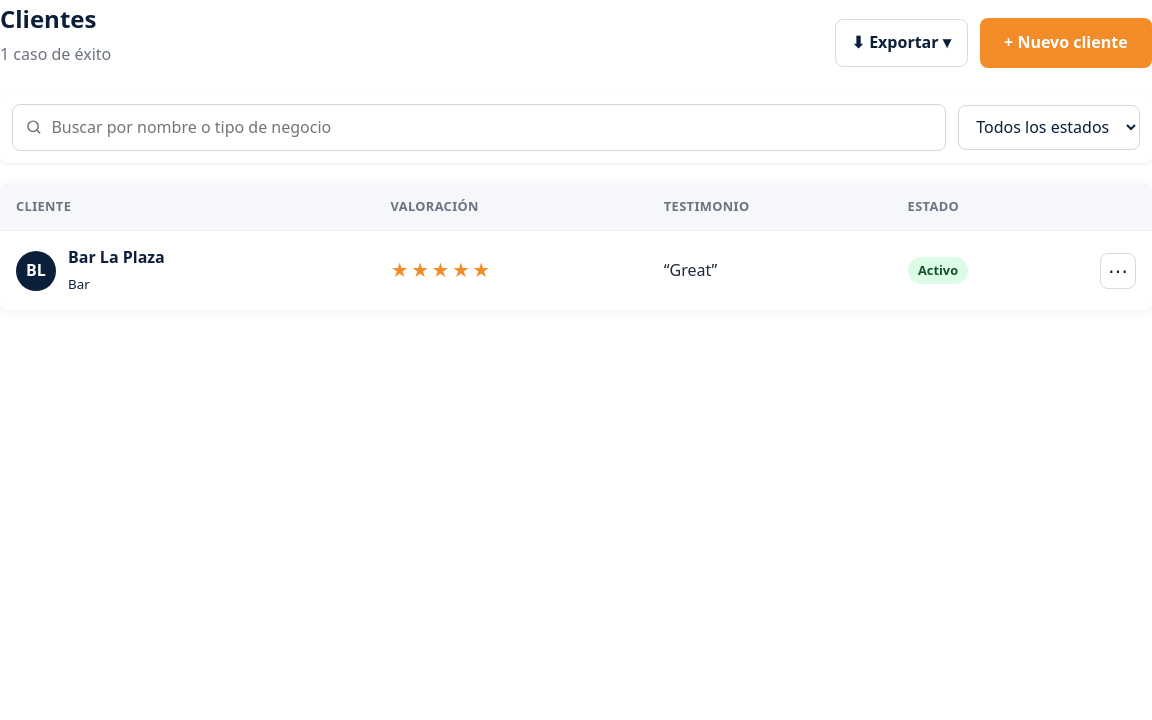
Scenario: admin CRUD screens › Clientes: lists the clients and edits one
The width and height of the screenshot is (1152, 720).
Click the button with test id "row-actions" showing "⋯".
click(1118, 271)  # box left=1100, top=253, right=1136, bottom=289
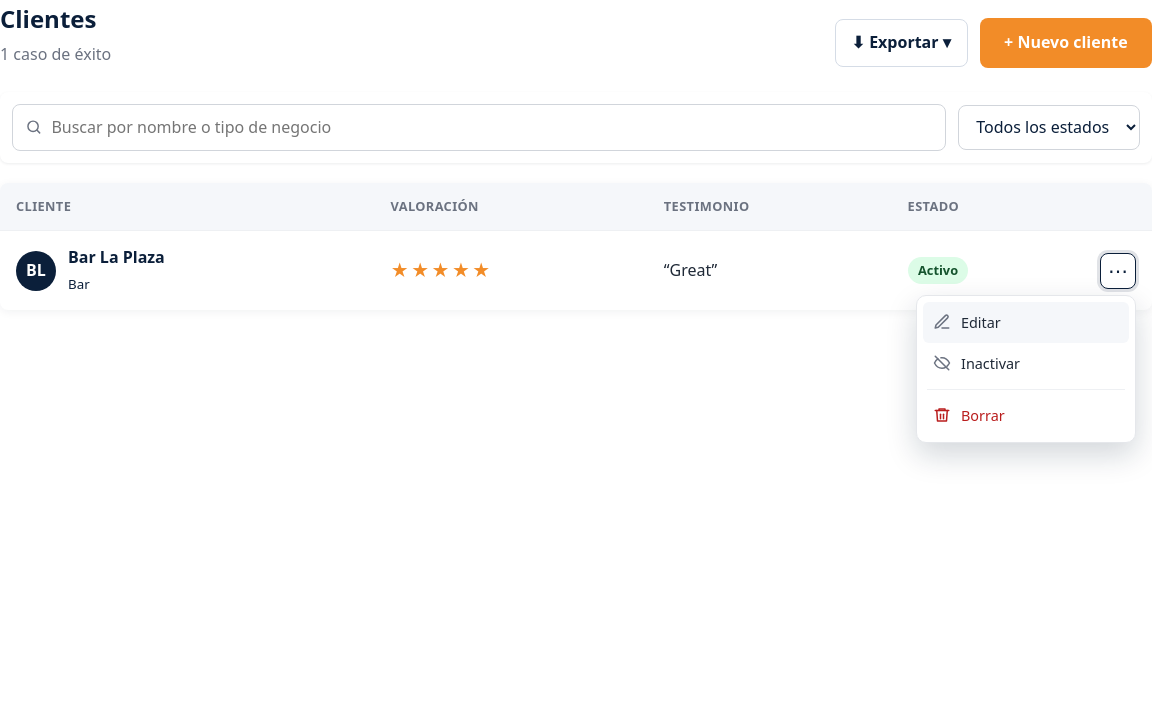
Click the menu item "Editar".
click(1026, 322)  # box left=923, top=302, right=1129, bottom=343
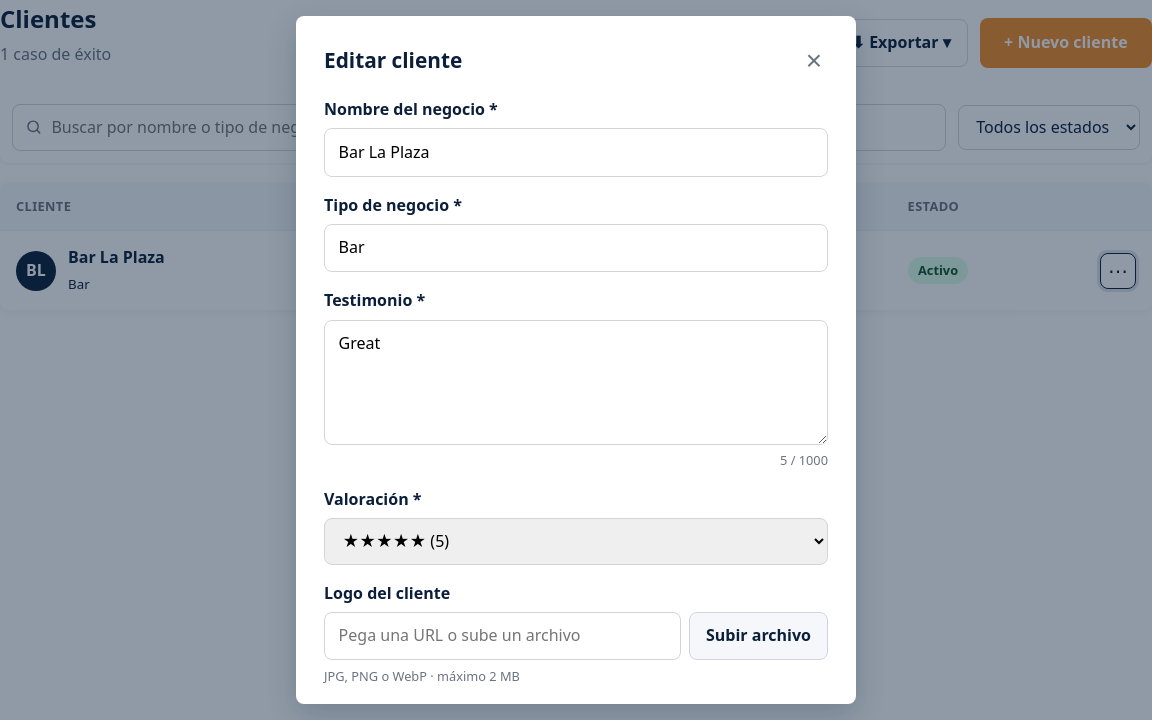
Now the field with id "client-name" holds "Bar La Plaza"
Replace the text in the field with id "client-name" with "Bar La Plaza Mayor" at (576, 153), box left=324, top=128, right=828, bottom=177
(page scrolled)
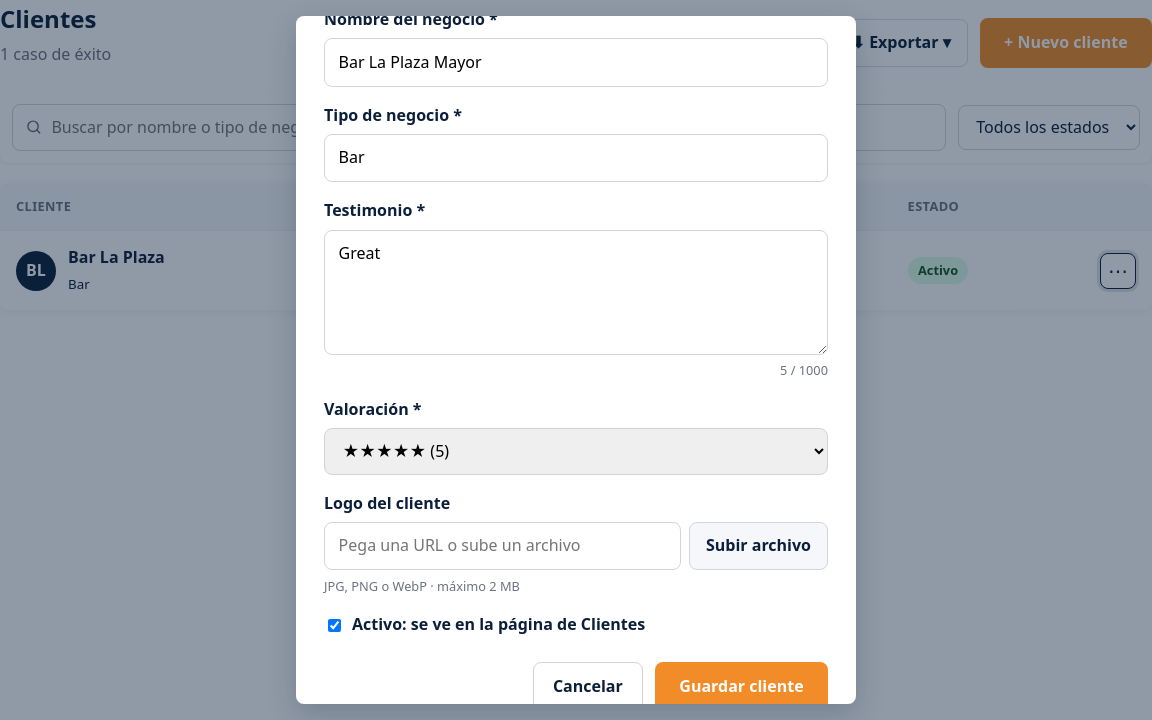
Submit the form, box left=324, top=7, right=828, bottom=712
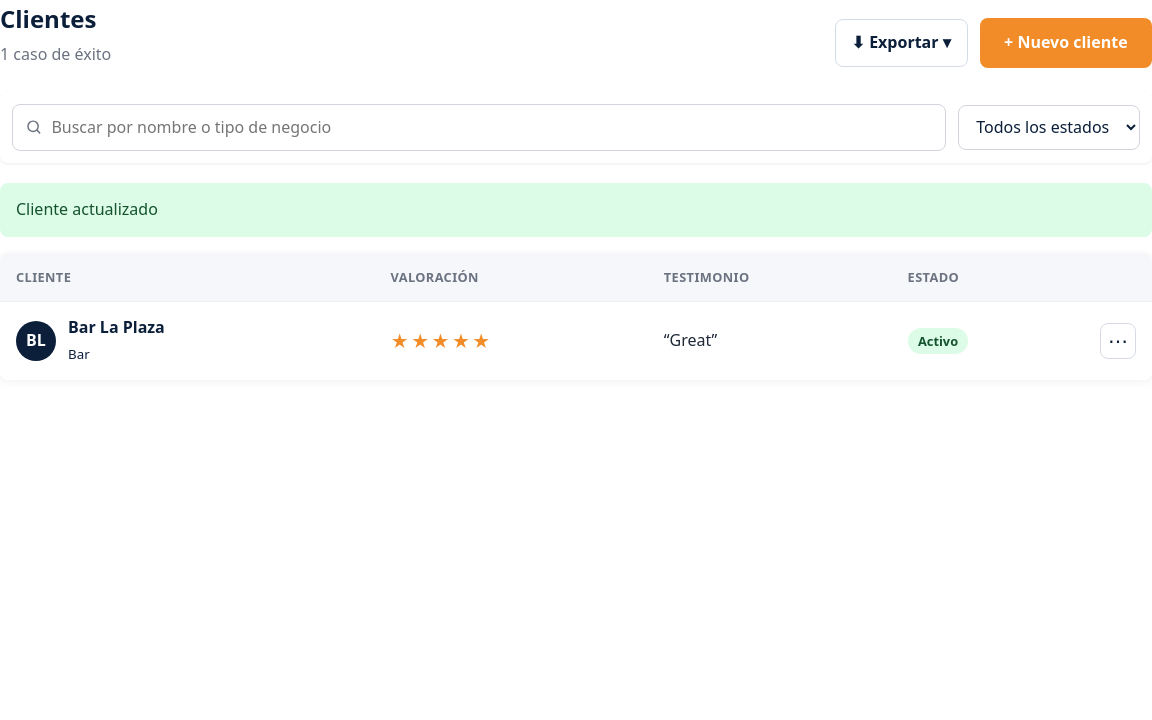
Now the message "Cliente actualizado" is shown, box left=0, top=183, right=1151, bottom=237
